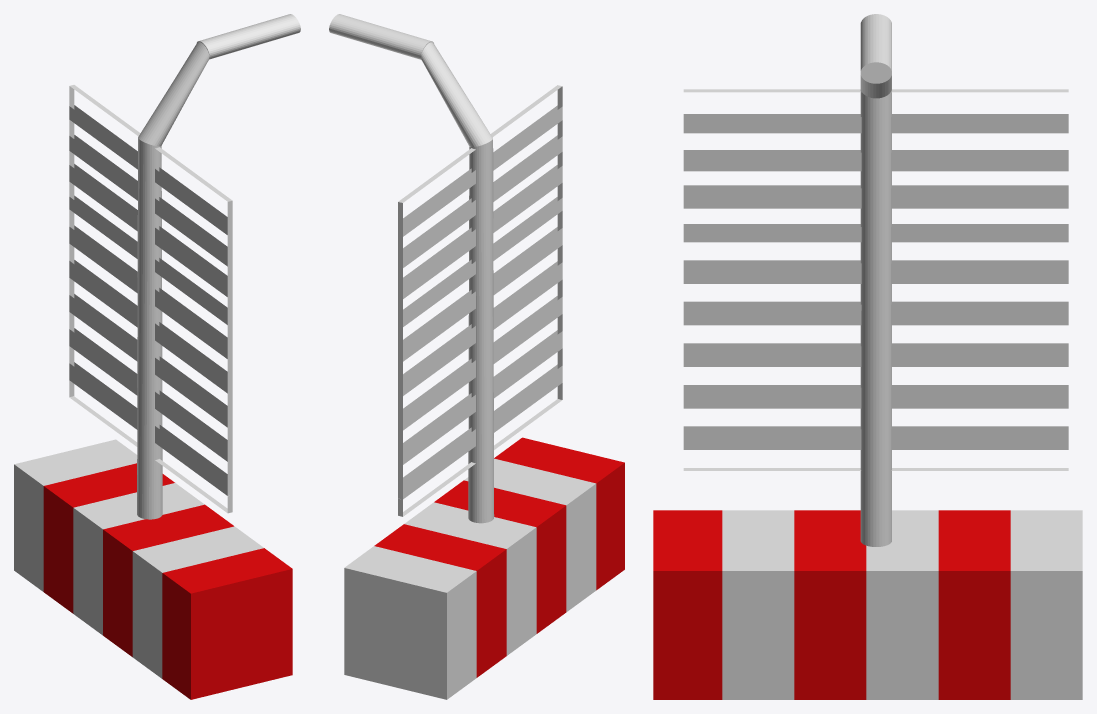
Rendered from GradePista.fbx.
The picture shows the model from 3 angles, left to right: view 1: azimuth 30°, elevation 25°; view 2: azimuth 150°, elevation 25°; view 3: azimuth 270°, elevation 25°; orthographic projection. The views are drawn at different scales.
Parts seen in each view (by area): view 1: Cube; view 2: Cube; view 3: Cube.
Part boxes in pixels (x1,y1,x2,y2): Cube: (14, 14, 300, 699); Cube: (329, 14, 624, 699); Cube: (653, 14, 1082, 699).
Bounding box in the file's own units: 137 × 381 × 214.
